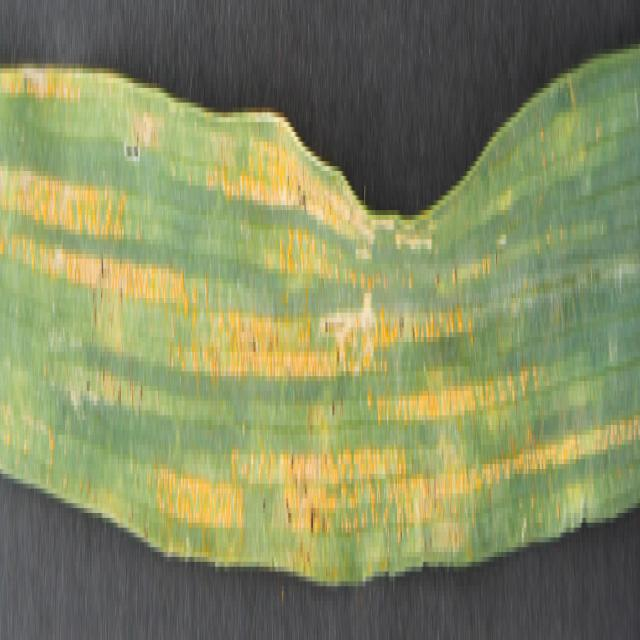leaf rust: (1, 83, 640, 567)
